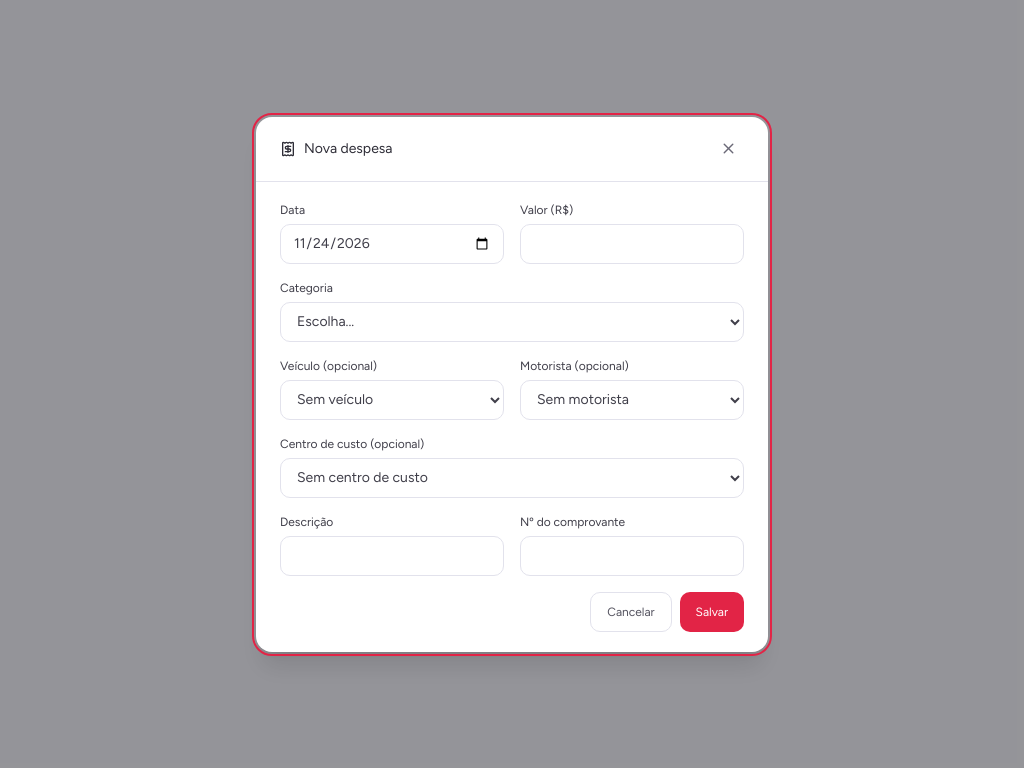
Test: DespesaAvulsaModal: valor em reais › valor 0 mostra o erro no campo e não envia
Select "Pedágio" in the dropdown labelled "Categoria" at (512, 322), box [280,302,744,342]
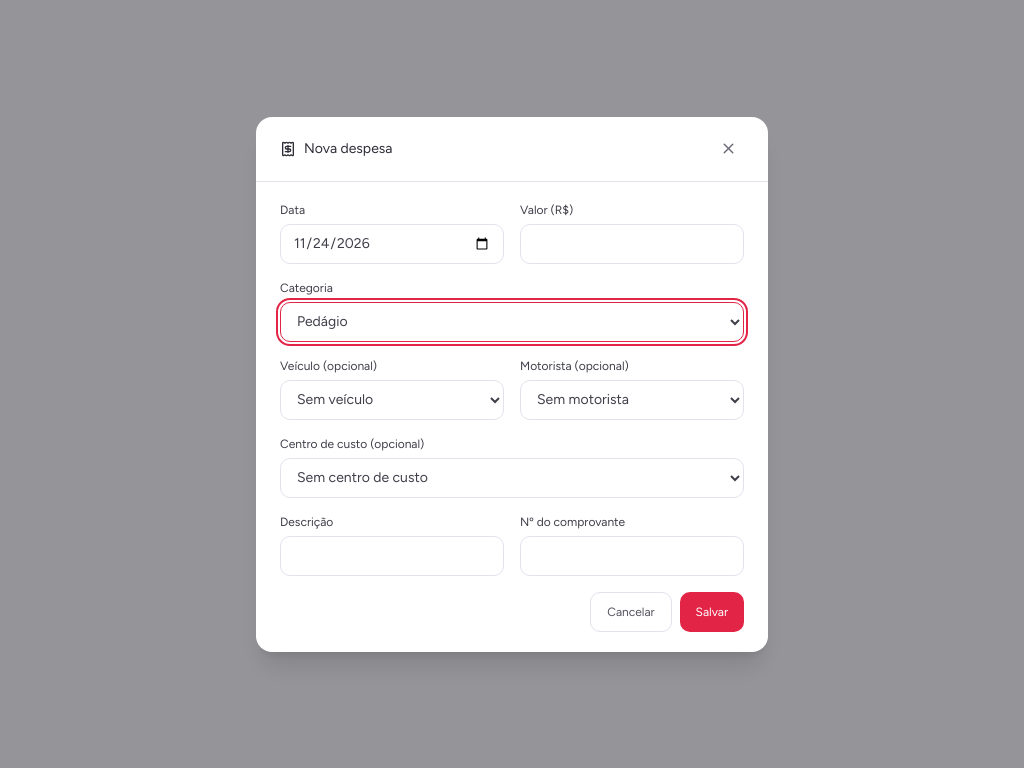
Type "0" into the field labelled "Valor (R$)" at (632, 244), box [520,224,744,264]
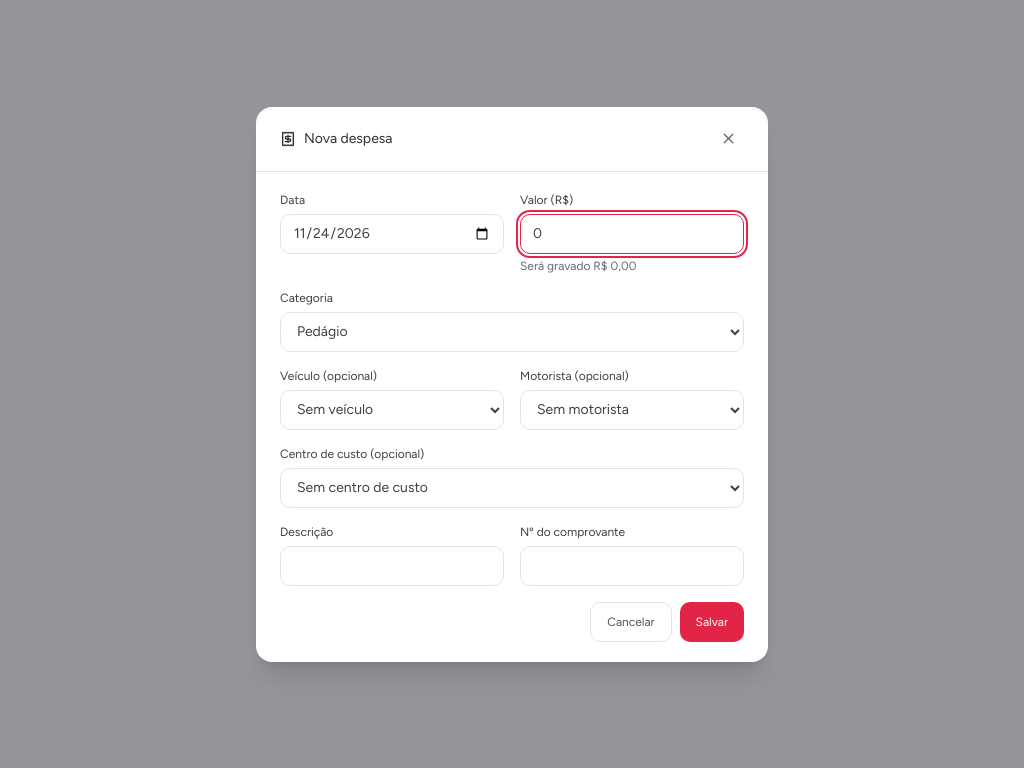
Click the button "Salvar" at (712, 622), box [680,602,744,642]
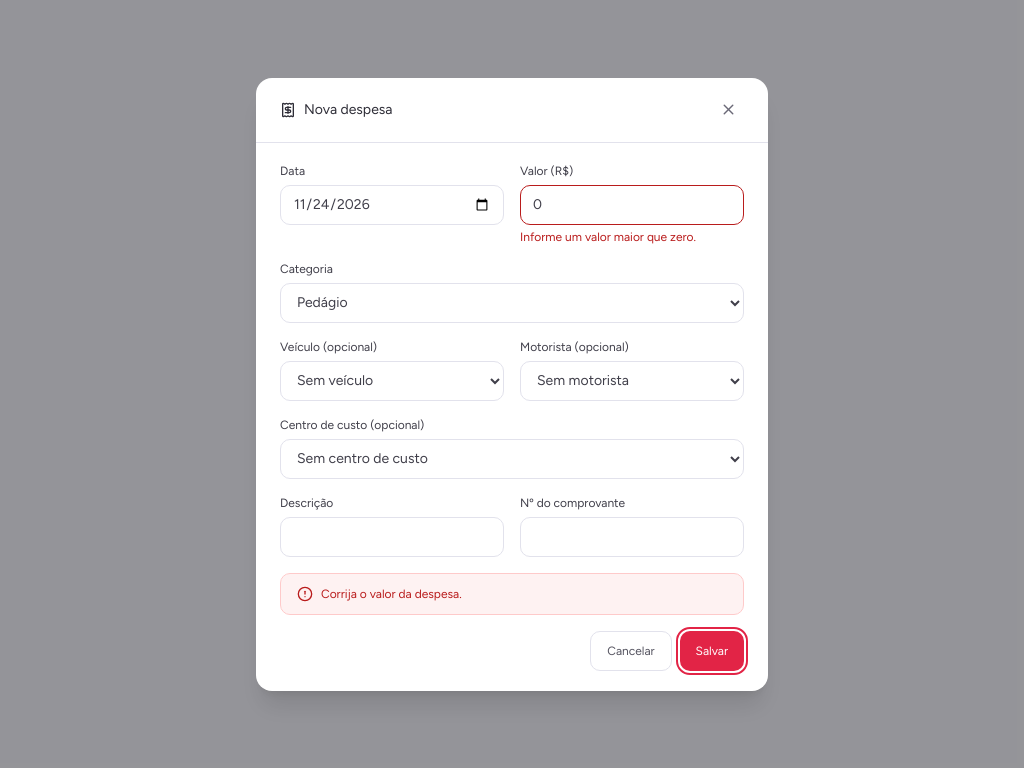
Now the text "Informe um valor maior que zero." is shown, box [520,230,696,244]
